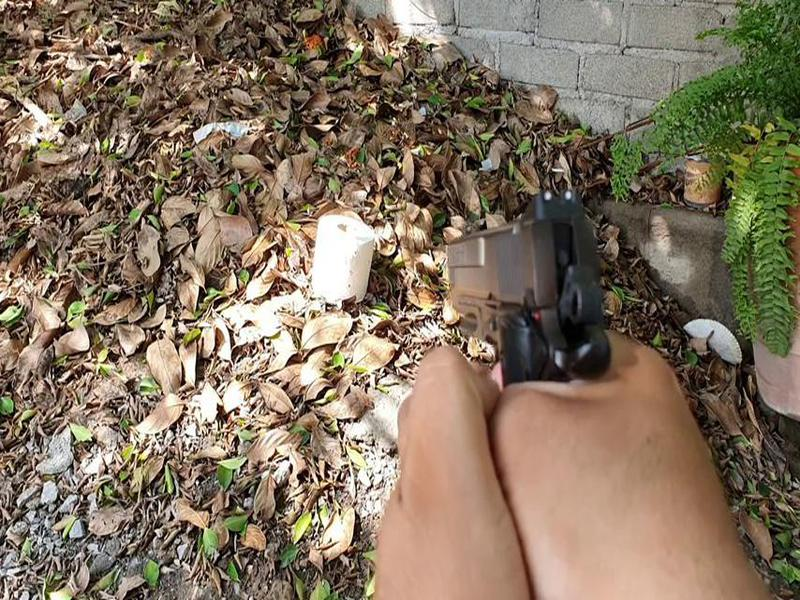Pistola: (429, 169, 637, 426)
